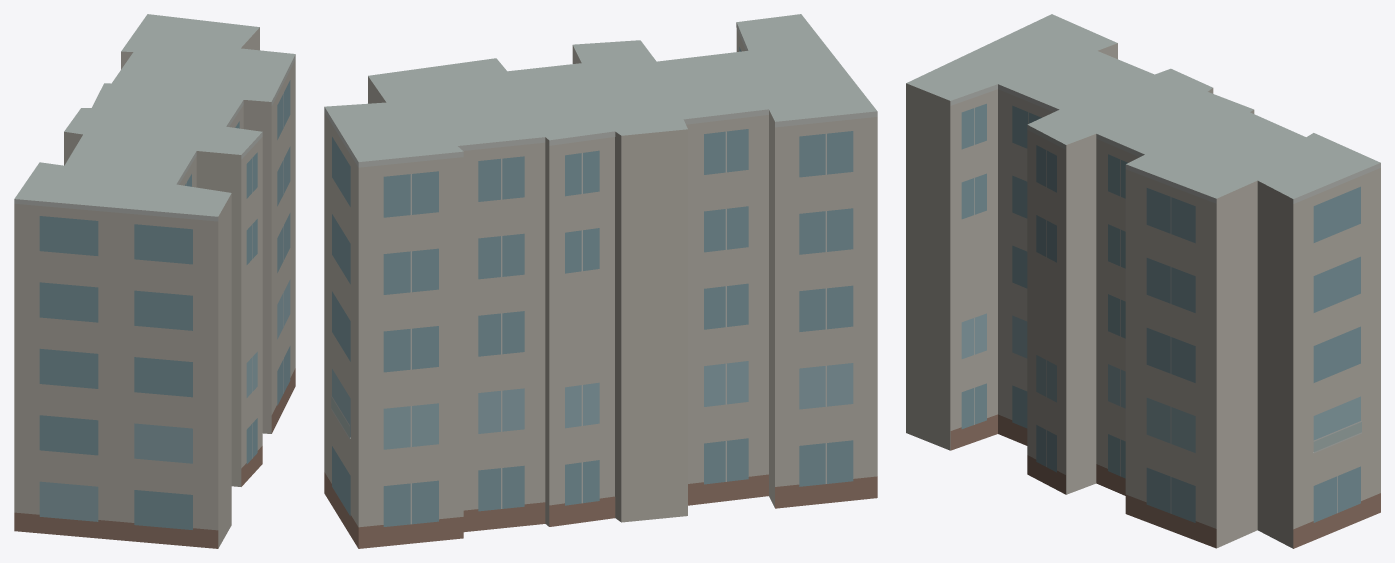
Rendered from survey-upis-32688216.glb.
The picture shows the model from 3 angles, left to right: view 1: azimuth 30°, elevation 25°; view 2: azimuth 150°, elevation 25°; view 3: azimuth 270°, elevation 25°; orthographic projection. The views are drawn at different scales.
Parts seen in each view (by area): view 1: survey-upis-32688216.tmp; view 2: survey-upis-32688216.tmp; view 3: survey-upis-32688216.tmp.
Part boxes in pixels (x1=…): survey-upis-32688216.tmp: x1=14, y1=14, x2=295, y2=548; survey-upis-32688216.tmp: x1=324, y1=14, x2=877, y2=548; survey-upis-32688216.tmp: x1=906, y1=14, x2=1380, y2=548.
Size of the model in its own units: 19.42 by 17.1 by 21.05.
